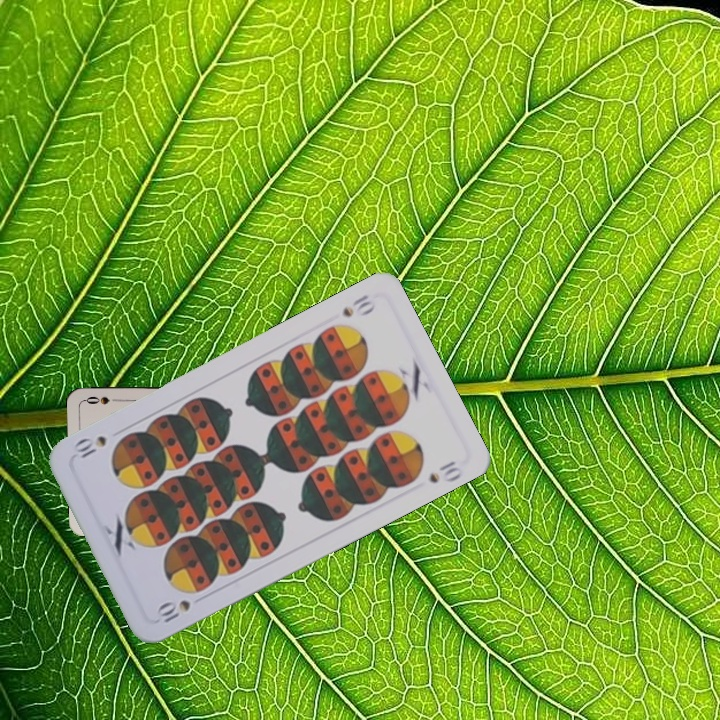S10: (152, 595, 193, 627), (337, 290, 379, 320)
